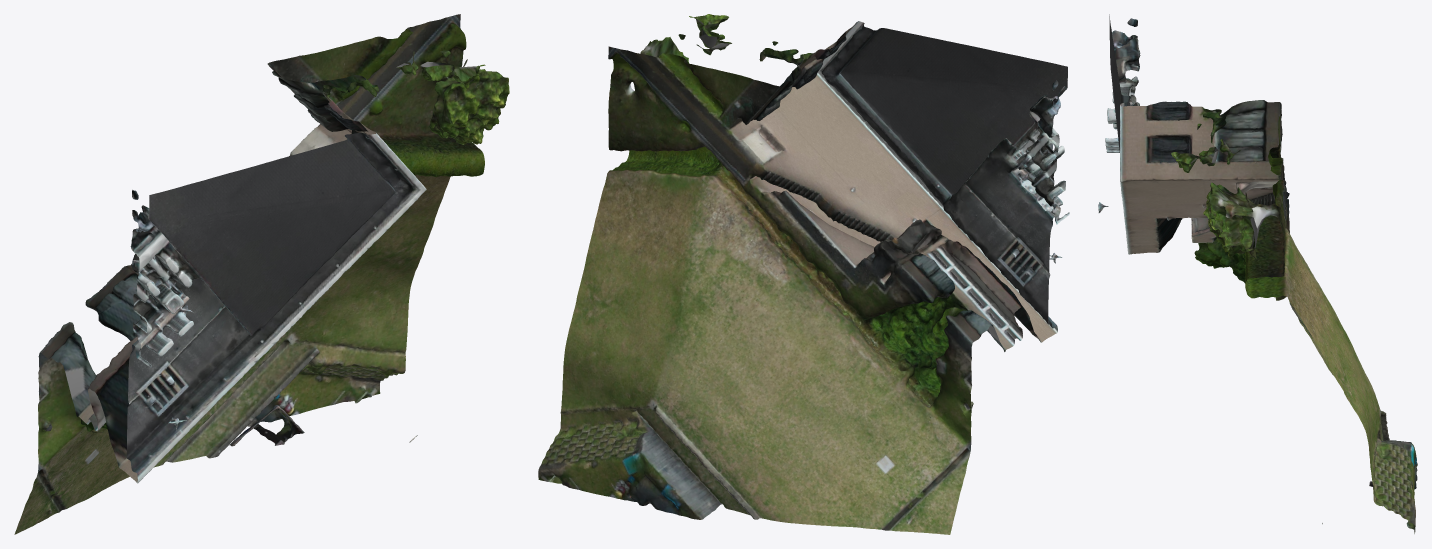
The model's file is Tile_+009_+012.fbx.
3 renders of one model, left to right at view 1: azimuth 30°, elevation 25°; view 2: azimuth 150°, elevation 25°; view 3: azimuth 270°, elevation 25°, orthographic. The views are drawn at different scales.
Parts seen in each view (by area): view 1: DefaultName; view 2: DefaultName; view 3: DefaultName.
Boxes of the visible parts, x1,y1,x2,y2 form: DefaultName: (14, 14, 509, 534); DefaultName: (538, 14, 1069, 534); DefaultName: (1098, 14, 1417, 533).
Size of the model in its own units: 22.54 by 22.54 by 18.36.
